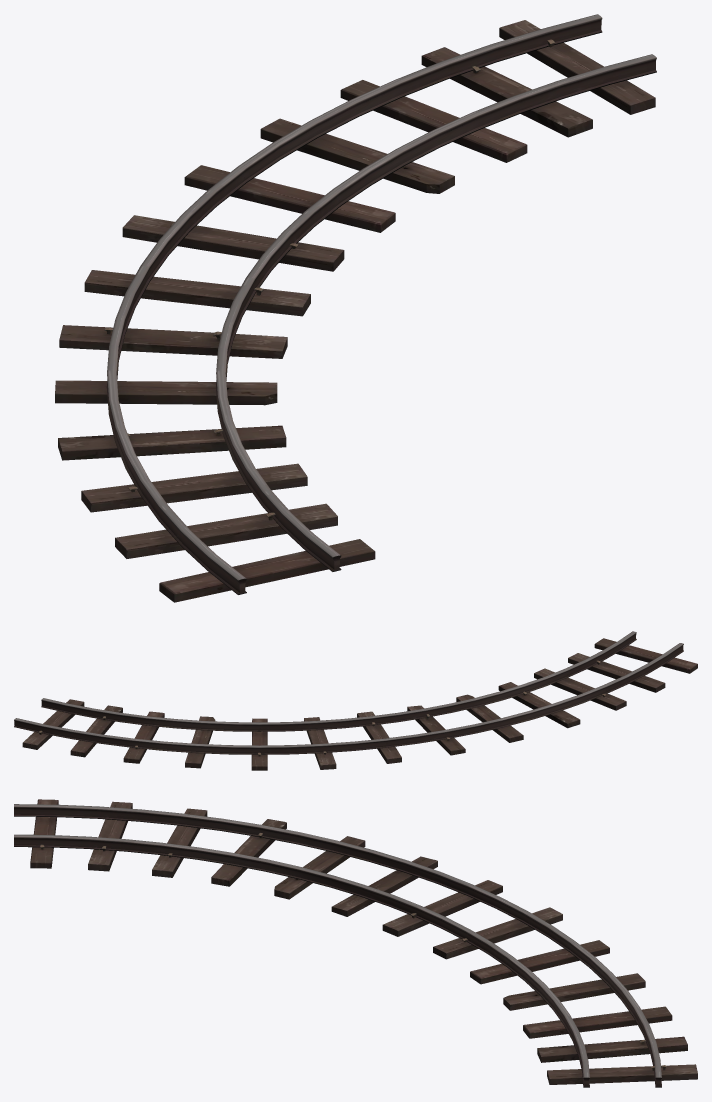
3 views of the same model, one above another, from view 1: azimuth 30°, elevation 25°; view 2: azimuth 150°, elevation 25°; view 3: azimuth 270°, elevation 25° (orthographic). The views are drawn at different scales.
Parts seen in each view (by area): view 1: body0_model0_lod0_mesh0; view 2: body0_model0_lod0_mesh0; view 3: body0_model0_lod0_mesh0.
Boxes of the visible parts, left/top/right/bottom form: body0_model0_lod0_mesh0: left=55, top=14, right=656, bottom=602; body0_model0_lod0_mesh0: left=14, top=631, right=697, bottom=770; body0_model0_lod0_mesh0: left=14, top=799, right=697, bottom=1087.
Bounding box in the file's own units: 256 × 6.72 × 256.
1 material, 1 textured.
